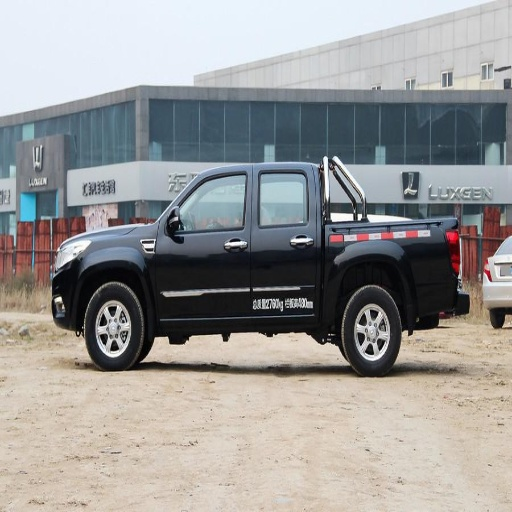back_left_door: (252, 167, 318, 309)
front_left_door: (154, 171, 250, 315)
trunk: (318, 226, 462, 321)
